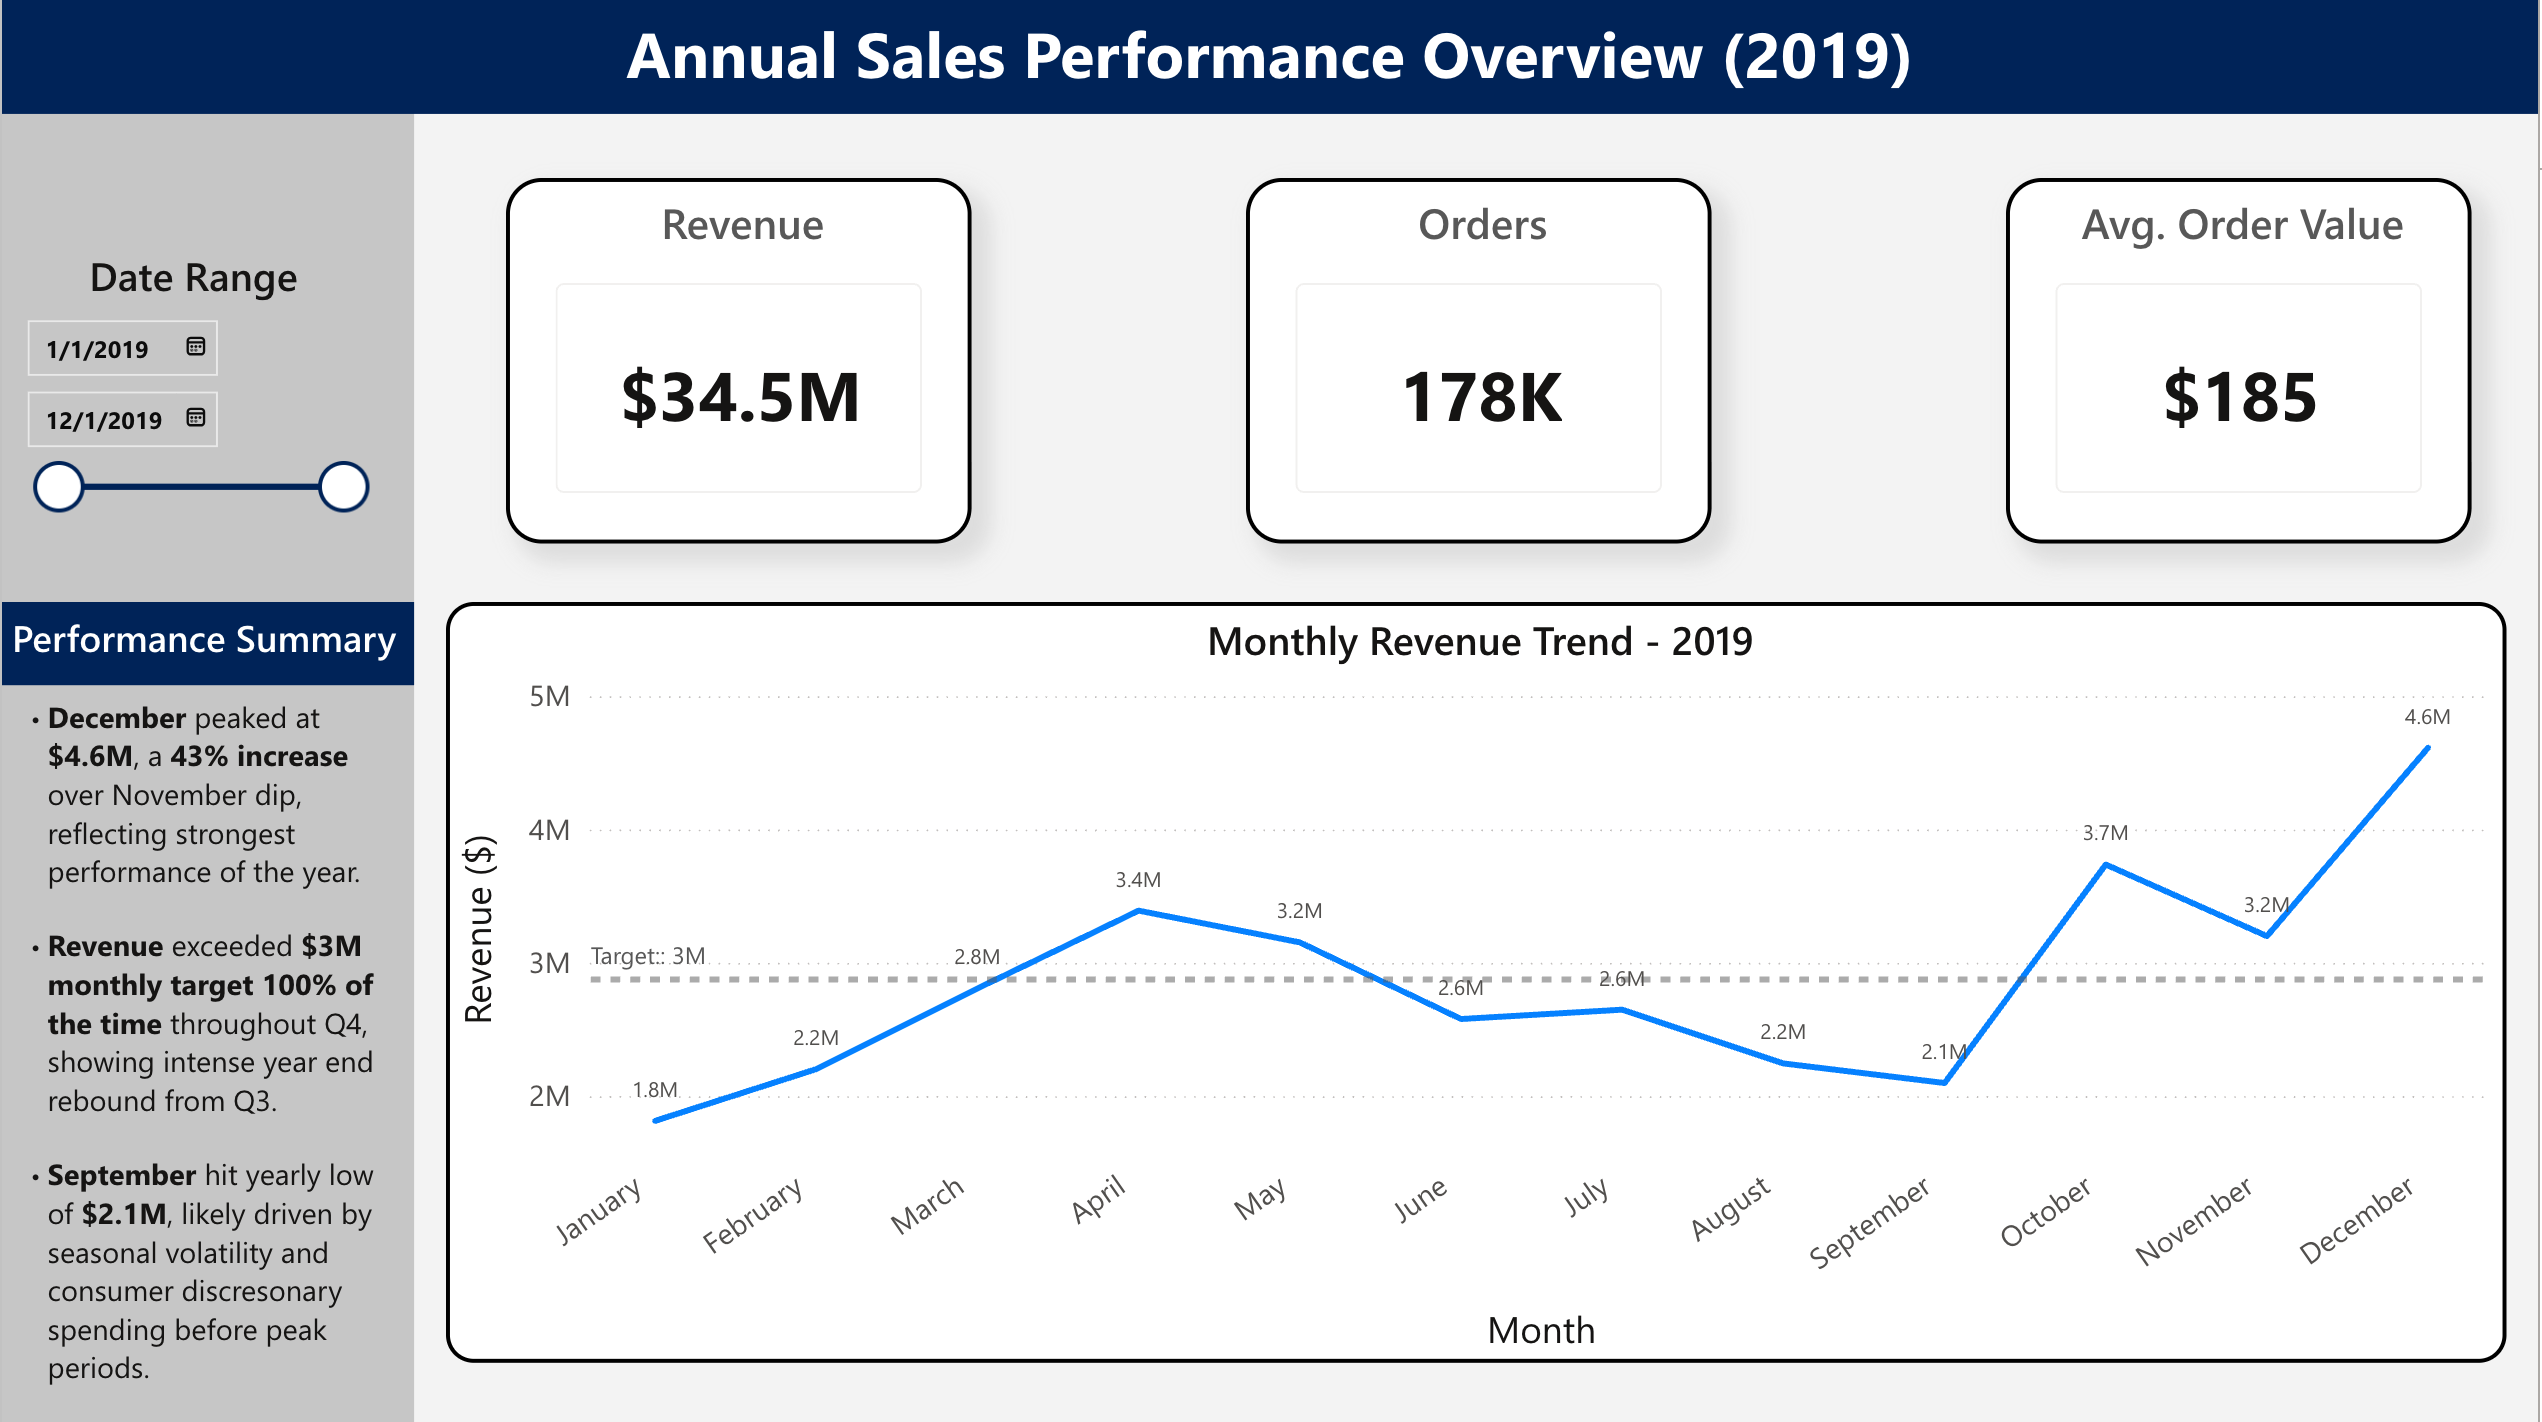

The dashboard page shown, as its layout file describes it:
{"tool":"powerbi","page":{"name":"Annual Sales Performance Overview","canvas":[1280,720],"ordinal":0},"visuals":[{"type":"shape","box":[0,48,208,672],"z":0},{"type":"cardVisual","title":"Avg. Order Value","fields":{"Data":["Sum(Average Order Value.avg_order_value)"]},"box":[1011.7,89.8,235.1,184.6],"z":1000},{"type":"cardVisual","title":"Revenue","fields":{"Data":["Sum(Total Revenue.total_revenue)"]},"box":[254.8,89.8,235.1,184.6],"z":2000},{"type":"cardVisual","title":"Orders","fields":{"Data":["Sum(Total Orders.total_orders)"]},"box":[627.7,89.8,235.1,184.6],"z":3000},{"type":"lineChart","title":"Monthly Revenue Trend - 2019","fields":{"Category":["Monthly Sales.month.Variation.Date Hierarchy.Month","Monthly Sales.month.Variation.Date Hierarchy.Day"],"Y":["Sum(Monthly Sales.monthly_revenue)"]},"box":[224,304,1040,384],"z":4000},{"type":"textbox","box":[0,0,1280,57.4],"z":5000},{"type":"textbox","box":[0,304,208,41.8],"z":7000},{"type":"slicer","title":" Date Range","fields":{"Values":["Monthly Sales.month"]},"box":[0,124.9,193.3,139.3],"z":7500},{"type":"textbox","box":[0,345.8,208,374.2],"z":8000}]}

Visuals, with their boxes in screenshot pixels (x1, y1, x2, y2), scaled from the page's 1280x720 canvas onto the 2542x1422 screenshot:
shape: select_region(0, 95, 413, 1421)
"Avg. Order Value" cardVisual: select_region(2009, 177, 2476, 542)
"Revenue" cardVisual: select_region(506, 177, 973, 542)
"Orders" cardVisual: select_region(1247, 177, 1713, 542)
"Monthly Revenue Trend - 2019" lineChart: select_region(445, 600, 2510, 1359)
textbox: select_region(0, 0, 2541, 113)
textbox: select_region(0, 600, 413, 683)
" Date Range" slicer: select_region(0, 247, 384, 522)
textbox: select_region(0, 683, 413, 1421)
